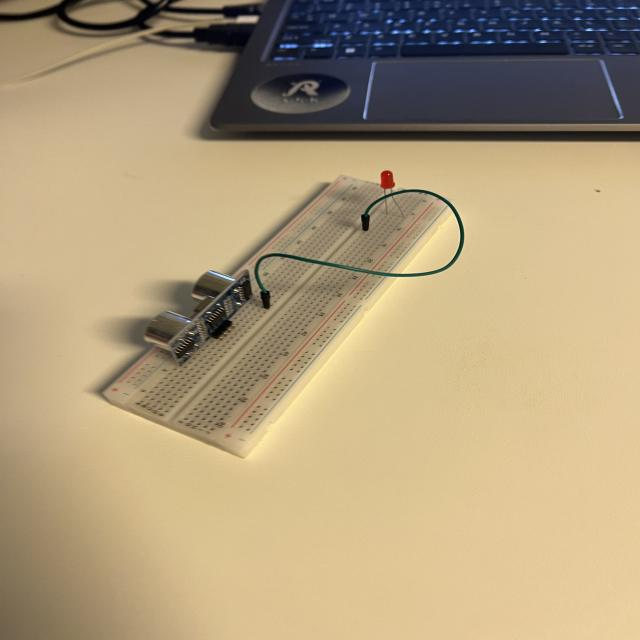BreadBoard: (103, 175, 456, 447)
REDLed: (375, 163, 404, 196)
UltrasoneSensor: (132, 266, 272, 367)
